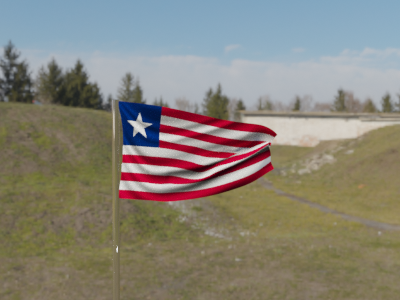Liberia flag: (117, 99, 276, 202)
